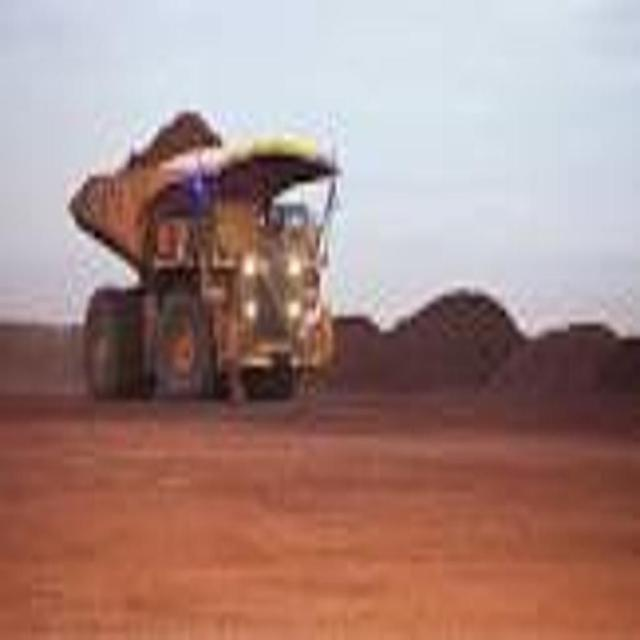dump_truck: (68, 90, 354, 456)
